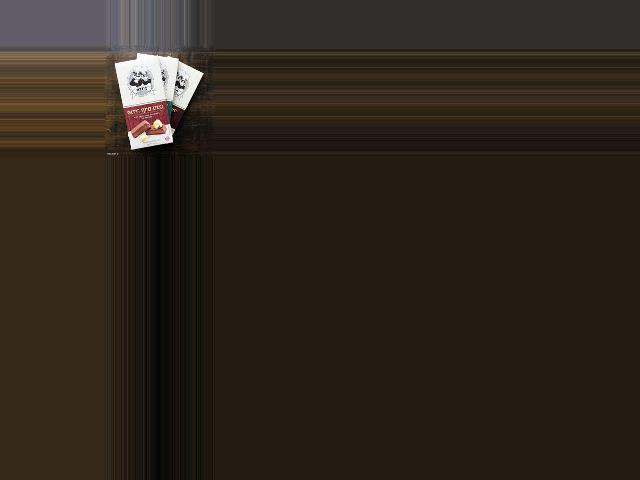chocolate: (144, 53, 204, 149)
